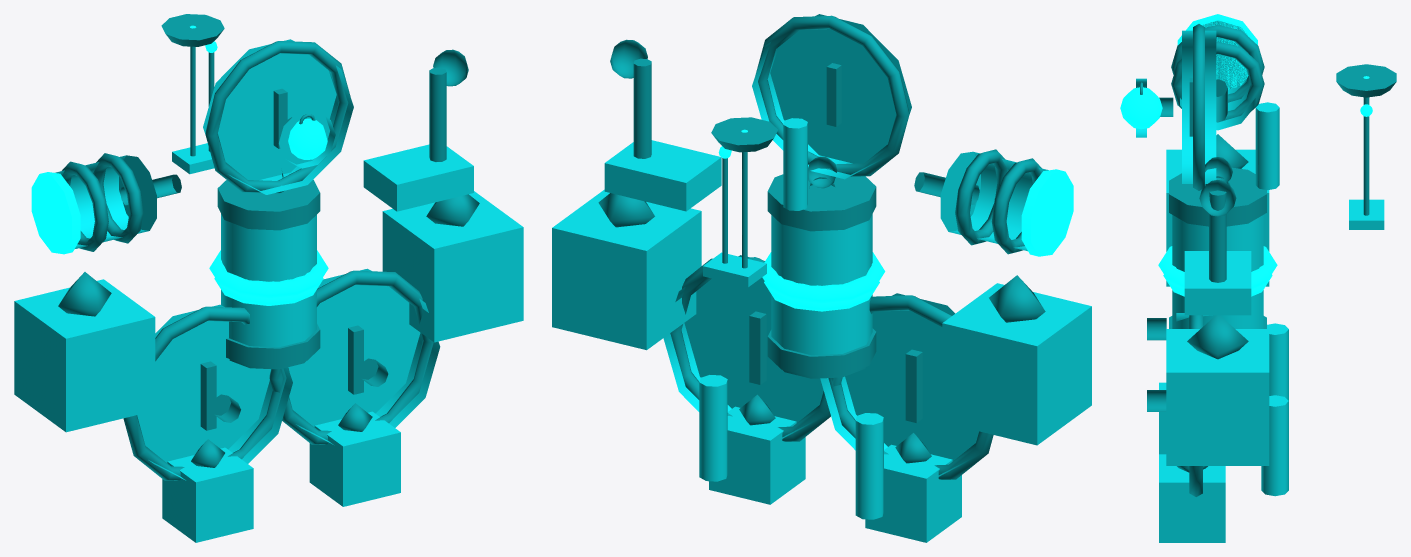
The model's file is golem_059.glb.
3 renders of one model, left to right at view 1: azimuth 30°, elevation 25°; view 2: azimuth 150°, elevation 25°; view 3: azimuth 270°, elevation 25°, orthographic. The views are drawn at different scales.
Parts seen in each view (by area): view 1: Body, Detail, Glow; view 2: Body, Detail, Glow; view 3: Body, Detail, Glow.
Boxes of the visible parts, x1,y1,x2,y2 form: Body: (14,39,523,542); Detail: (58,14,479,480); Glow: (31,25,328,305); Body: (552,14,1091,542); Detail: (598,15,1045,479); Glow: (718,129,1073,311); Body: (1136,20,1384,542); Detail: (1140,24,1396,496); Glow: (1120,14,1372,296).
Size of the model in its own units: 1.42 by 1.37 by 0.7423.
